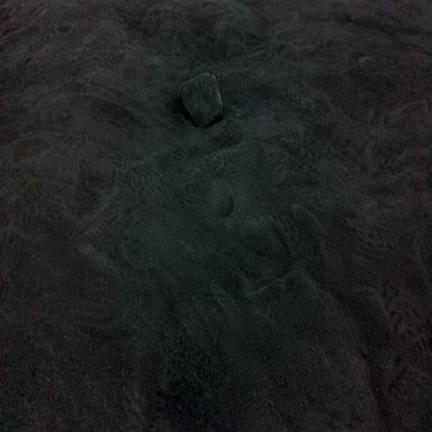Rock: (179, 73, 222, 127)
